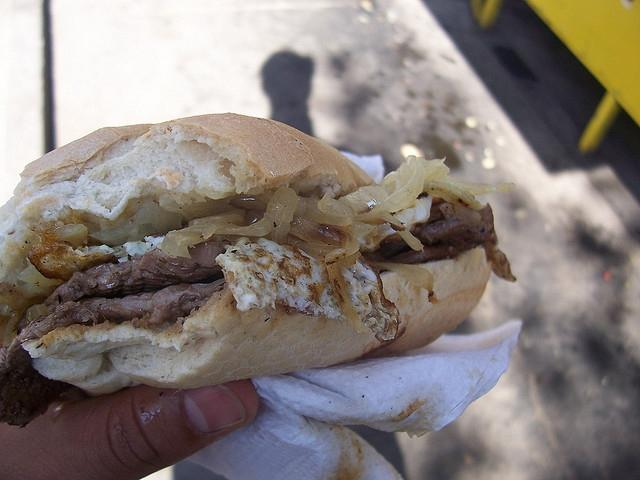onion: (318, 164, 424, 224), (214, 186, 298, 245), (371, 260, 442, 304), (162, 226, 226, 258), (435, 174, 515, 196), (381, 154, 417, 196), (306, 208, 348, 223)
